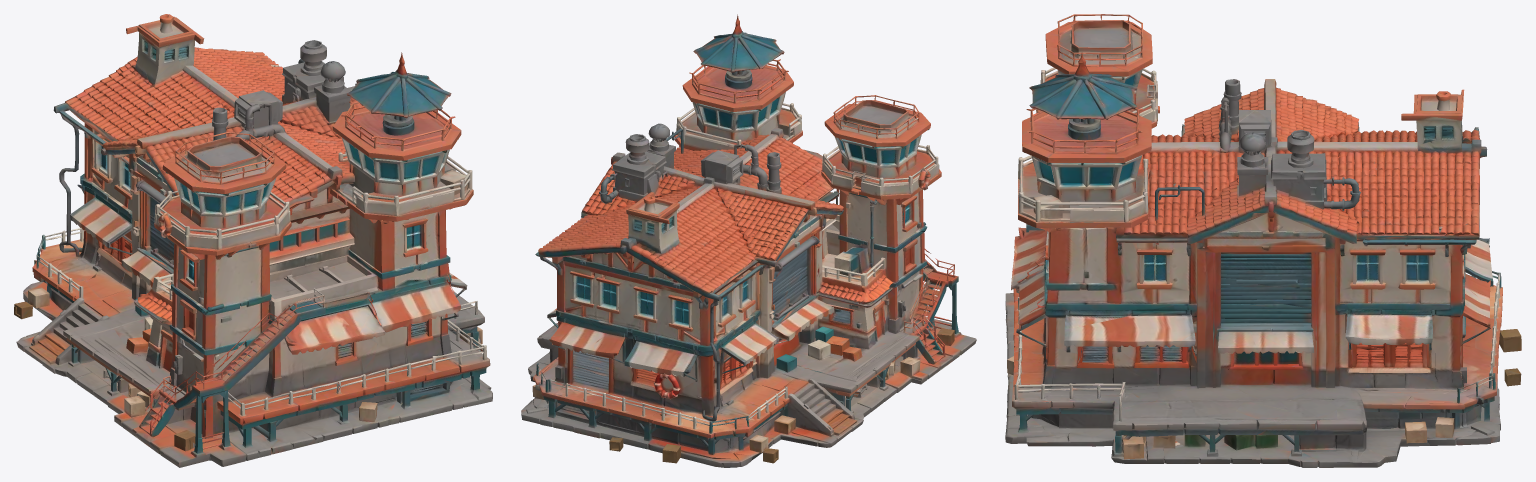
The model's file is harbor-hq-desktop.glb.
3 views of the same model, side by side, from view 1: azimuth 30°, elevation 25°; view 2: azimuth 150°, elevation 25°; view 3: azimuth 270°, elevation 25° (orthographic). The views are drawn at different scales.
Visible parts, largest first — view 1: model; view 2: model; view 3: model.
Boxes of the visible parts, <box> form: model: <box>14,14,492,467</box>; model: <box>521,14,976,467</box>; model: <box>1005,14,1521,467</box>.
Bounding box in the file's own units: 1.61 × 1.47 × 1.89.
1 material, 1 textured.
